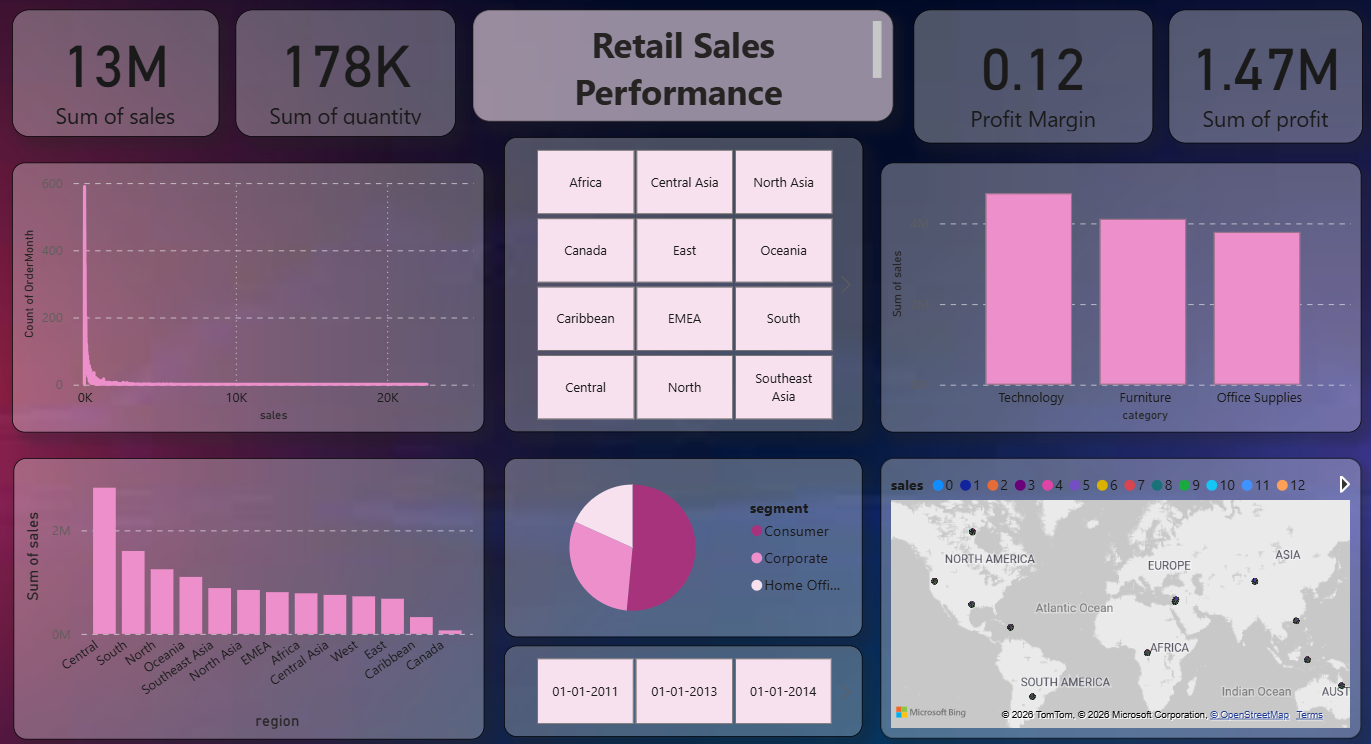

Layout of this report page (visuals, bound fields, positions):
{"tool":"powerbi","page":{"name":"Page 1","canvas":[1280,720],"ordinal":0},"visuals":[{"type":"textbox","box":[446,12,390,104],"z":0},{"type":"card","fields":{"Values":["Sum(SuperStore_Orders.sales)"]},"box":[20,12,192,118],"z":1000},{"type":"card","fields":{"Values":["Sum(SuperStore_Orders.profit)"]},"box":[1090,12,180,124],"z":2000},{"type":"card","fields":{"Values":["Sum(SuperStore_Orders.quantity)"]},"box":[226,12,204,118],"z":3000},{"type":"card","fields":{"Values":["SuperStore_Orders.Profit Margin"]},"box":[854,12,222,124],"z":4000},{"type":"lineChart","fields":{"Category":["SuperStore_Orders.sales"],"Y":["CountNonNull(SuperStore_Orders.OrderMonth)"]},"box":[19.1,154.3,437.4,249.7],"z":6000},{"type":"columnChart","fields":{"Category":["SuperStore_Orders.region"],"Y":["Sum(SuperStore_Orders.sales)"]},"box":[20.7,427.9,435.8,260.9],"z":7000},{"type":"lineClusteredColumnComboChart","fields":{"Category":["SuperStore_Orders.category"],"Y":["Sum(SuperStore_Orders.sales)"]},"box":[823.9,154.3,445.4,249.7],"z":8000},{"type":"pieChart","fields":{"Category":["SuperStore_Orders.segment"],"Y":["Sum(SuperStore_Orders.sales)"]},"box":[475.5,428.3,332.1,166],"z":9000},{"type":"slicer","fields":{"Values":["SuperStore_Orders.region"]},"box":[475.6,130.4,332.4,273.6],"z":10000},{"type":"map","fields":{"Category":["SuperStore_Orders.region"],"Series":["SuperStore_Orders.sales"]},"box":[824,428,445,260],"z":11000},{"type":"slicer","fields":{"Values":["SuperStore_Orders.order_date"]},"box":[475,601.4,331.9,84.7],"z":12000}]}

Visuals, with their boxes on the page's 1280x720 design canvas (x1, y1, x2, y2). These are canvas units, not pixel positions in the 1371x744 screenshot, which may show the page scaled, cropped or inside an application window:
textbox: BBox(446, 12, 836, 116)
card - Sum(SuperStore_Orders.sales): BBox(20, 12, 212, 130)
card - Sum(SuperStore_Orders.profit): BBox(1090, 12, 1270, 136)
card - Sum(SuperStore_Orders.quantity): BBox(226, 12, 430, 130)
card - SuperStore_Orders.Profit Margin: BBox(854, 12, 1076, 136)
lineChart - SuperStore_Orders.sales x CountNonNull(SuperStore_Orders.OrderMonth): BBox(19, 154, 456, 404)
columnChart - SuperStore_Orders.region x Sum(SuperStore_Orders.sales): BBox(21, 428, 456, 689)
lineClusteredColumnComboChart - SuperStore_Orders.category x Sum(SuperStore_Orders.sales): BBox(824, 154, 1269, 404)
pieChart - SuperStore_Orders.segment x Sum(SuperStore_Orders.sales): BBox(476, 428, 808, 594)
slicer - SuperStore_Orders.region: BBox(476, 130, 808, 404)
map - SuperStore_Orders.region x SuperStore_Orders.sales: BBox(824, 428, 1269, 688)
slicer - SuperStore_Orders.order_date: BBox(475, 601, 807, 686)
